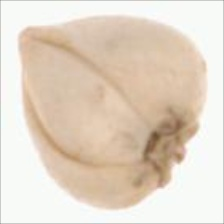L5: (16, 24, 148, 167), (142, 105, 204, 197)
L6: (16, 13, 210, 212)
